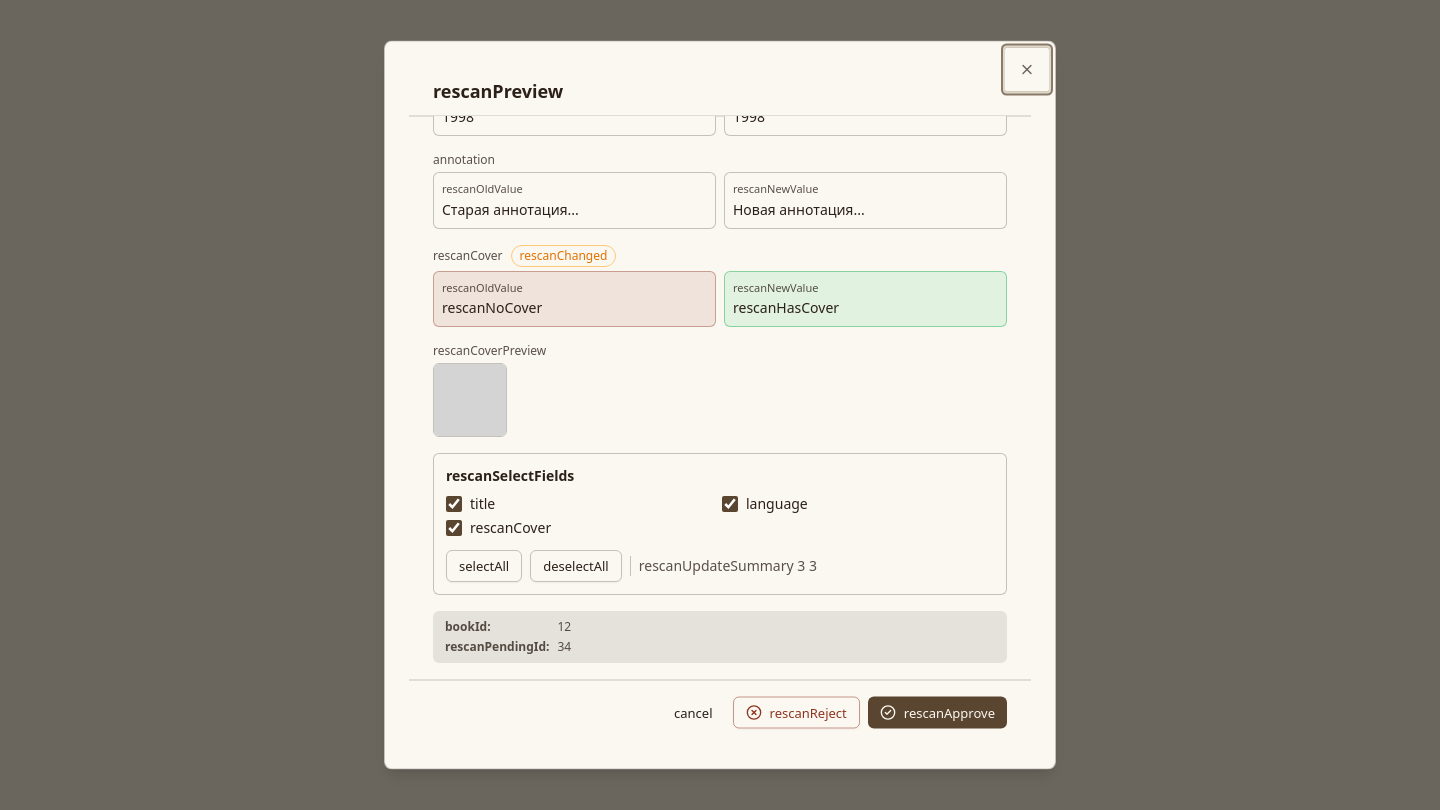
Test: RescanPreviewDialog › counts the fields that will be written
(page scrolled)
Check: the text "rescanUpdateSummary 3 3" is shown, box [639,556,817,576]
Click the button "deselectAll": (576, 566) [530,550,622,582]
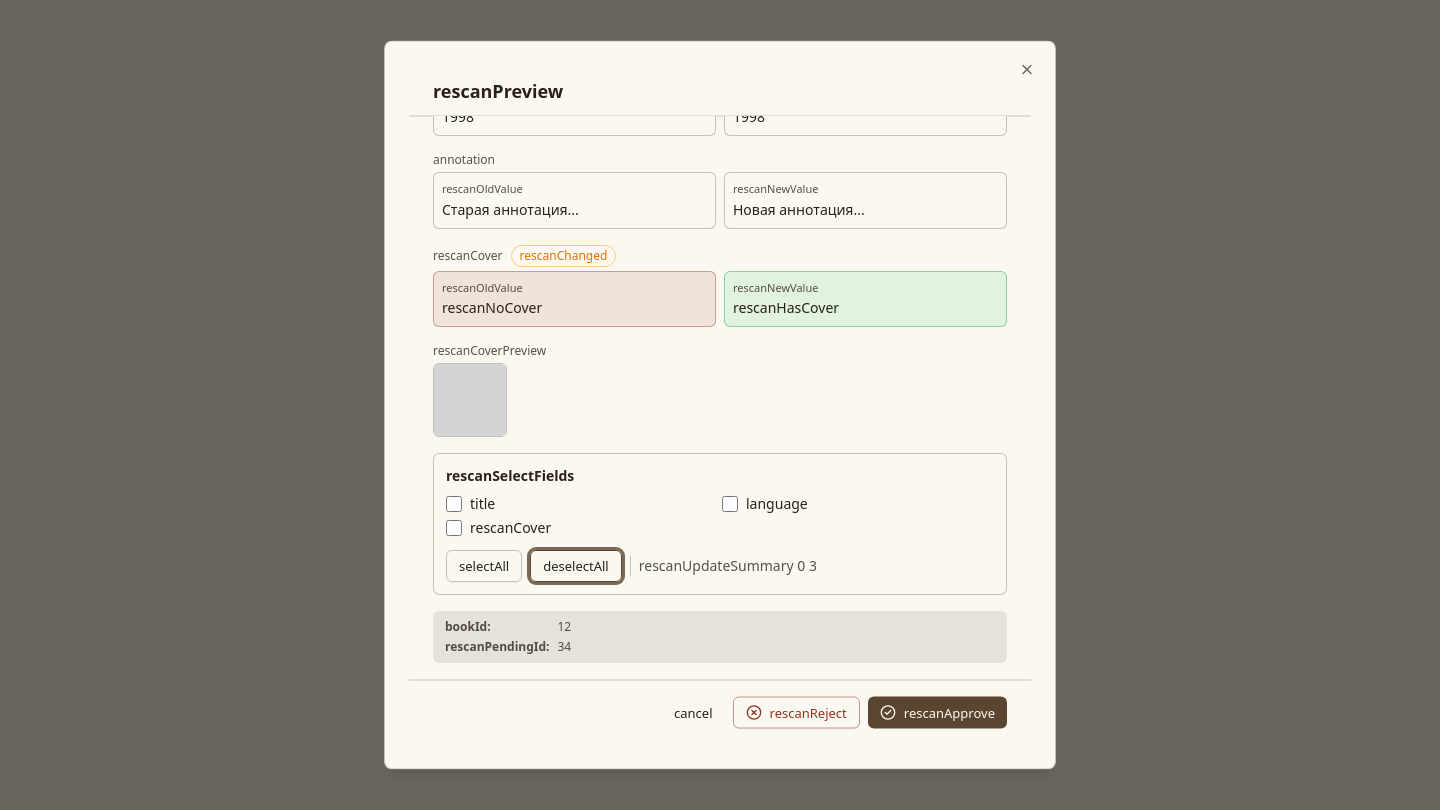
Check: the text "rescanUpdateSummary 0 3" is shown, box [639,556,817,576]
Click the button "selectAll": (484, 566) [446,550,522,582]
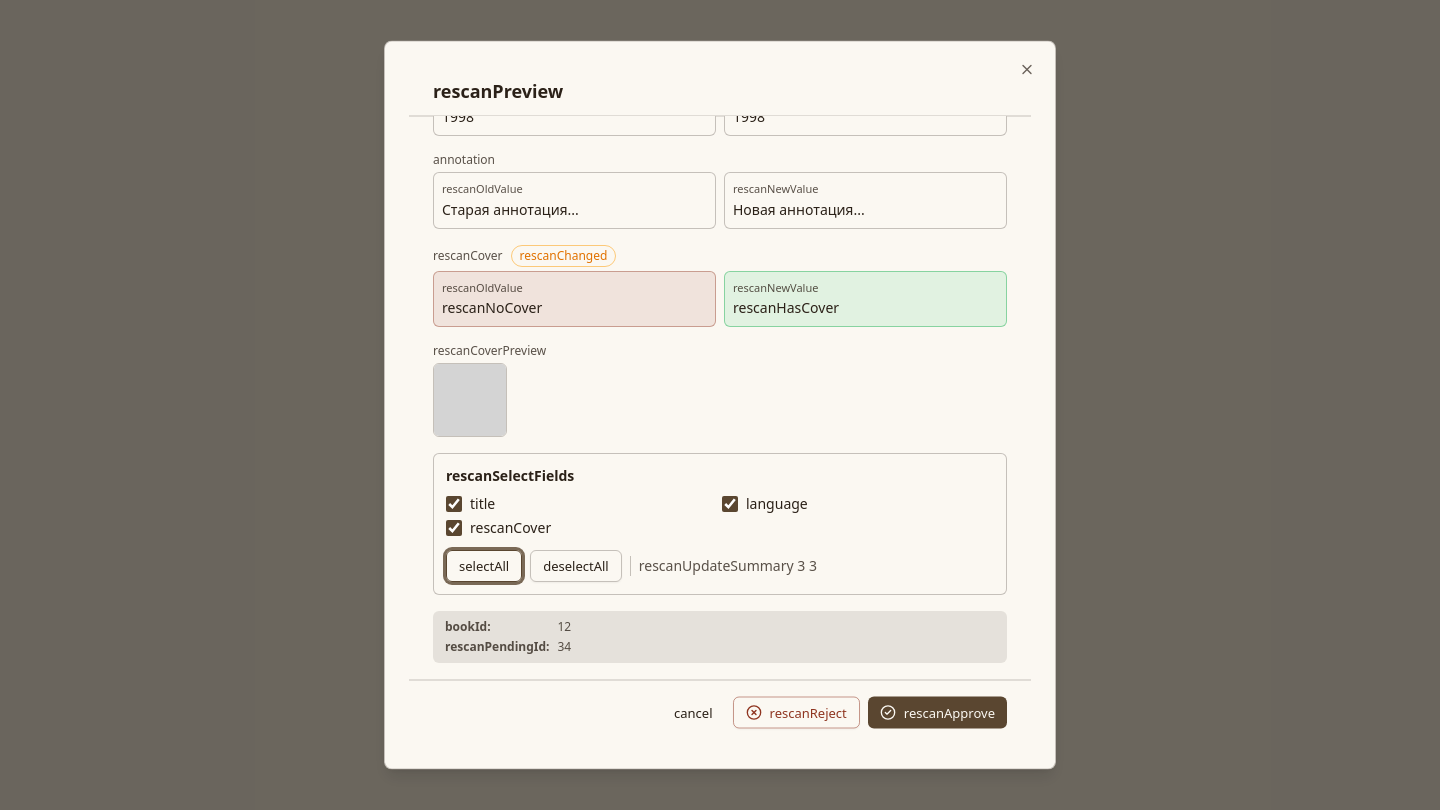
Check: the text "rescanUpdateSummary 3 3" is shown, box [639,556,817,576]
